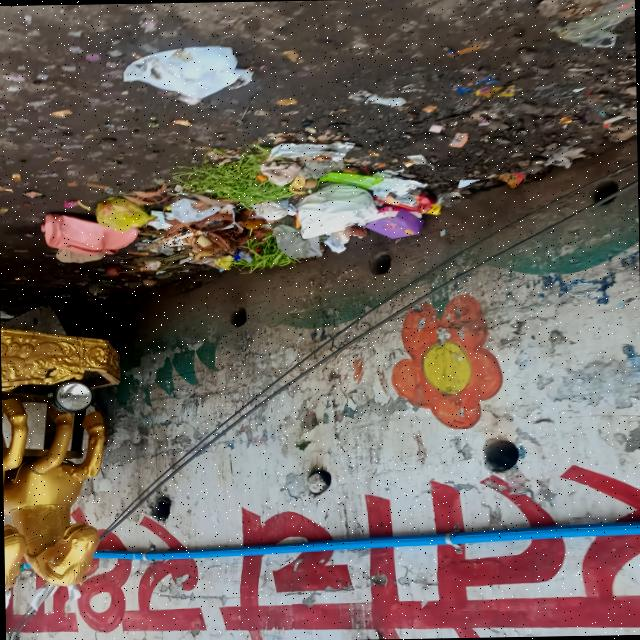garbage: (27, 133, 460, 280)
